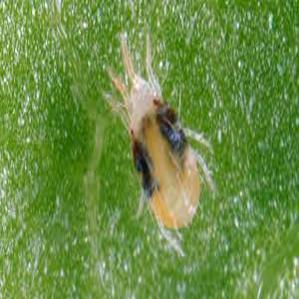spider mite: (79, 24, 249, 257)
